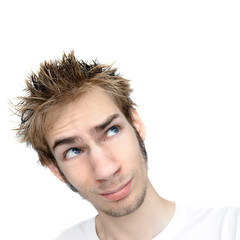teen: (21, 55, 152, 217)
